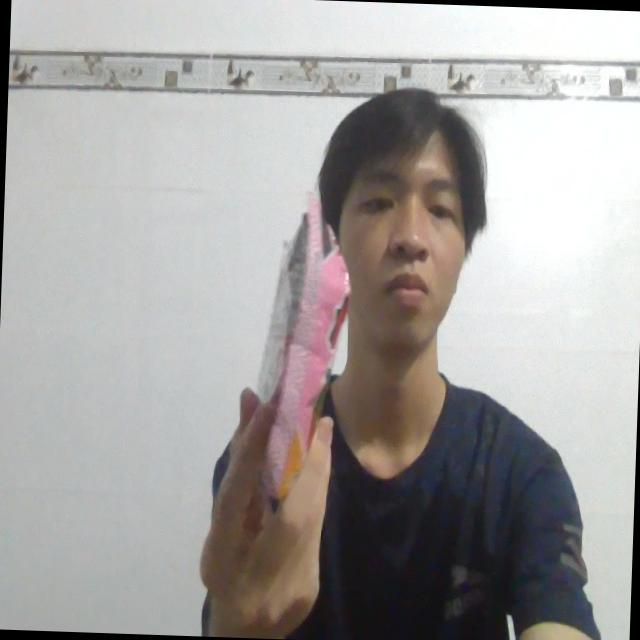mi hao hao: (210, 166, 362, 512)
